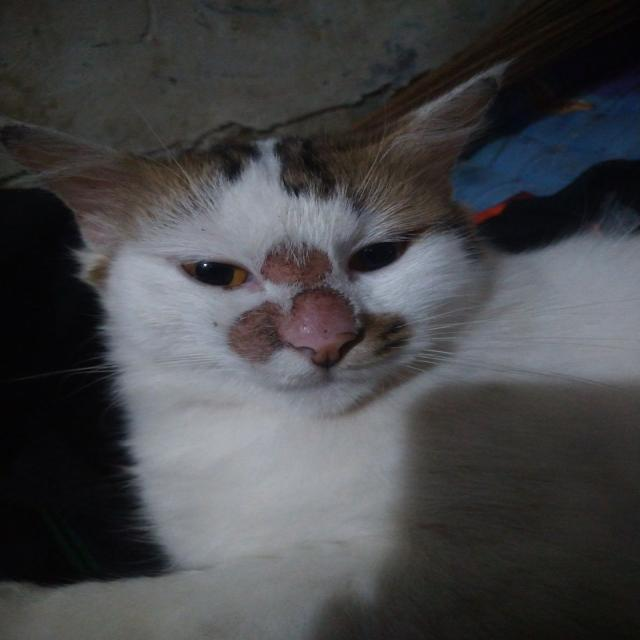hac lao: (228, 237, 412, 403)
